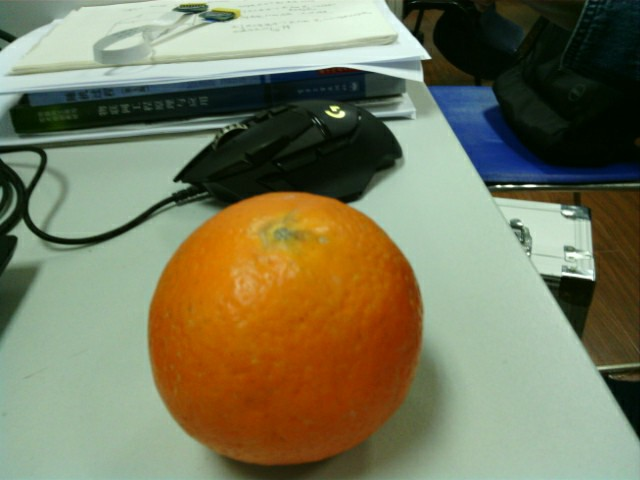normal_orange: (146, 193, 427, 464)
